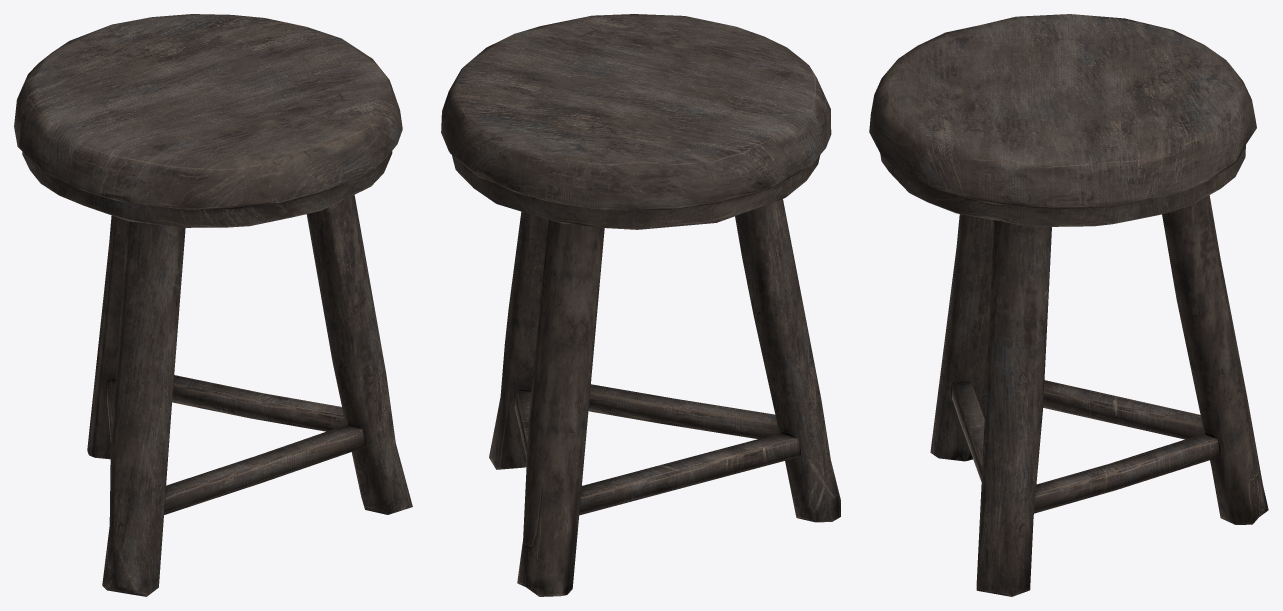
The model's file is SM_Stool.fbx.
The picture shows the model from 3 angles, left to right: view 1: azimuth 30°, elevation 25°; view 2: azimuth 150°, elevation 25°; view 3: azimuth 270°, elevation 25°; orthographic projection.
Parts seen in each view (by area): view 1: SM_Stool_LOD0; view 2: SM_Stool_LOD0; view 3: SM_Stool_LOD0.
Part boxes in pixels (x1,y1,x2,y2): SM_Stool_LOD0: [14, 14, 412, 596]; SM_Stool_LOD0: [441, 14, 840, 596]; SM_Stool_LOD0: [869, 14, 1268, 596].
Bounding box in the file's own units: 50.05 × 51.15 × 60.62.
